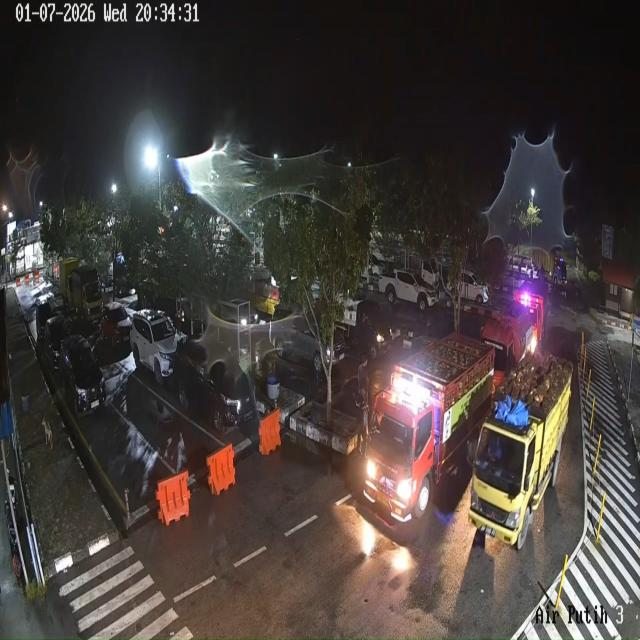Golongan IVA: (174, 340, 259, 433), (269, 304, 345, 374), (59, 335, 106, 417), (130, 309, 179, 385), (42, 315, 70, 371), (100, 302, 132, 348), (36, 300, 54, 341)
Golongan IVB: (378, 270, 439, 311)
Golongan VB: (364, 333, 494, 522), (468, 357, 572, 550), (481, 301, 537, 391), (58, 257, 102, 321)
